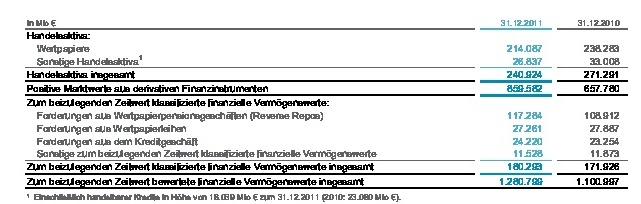table: (0, 0, 641, 204)
